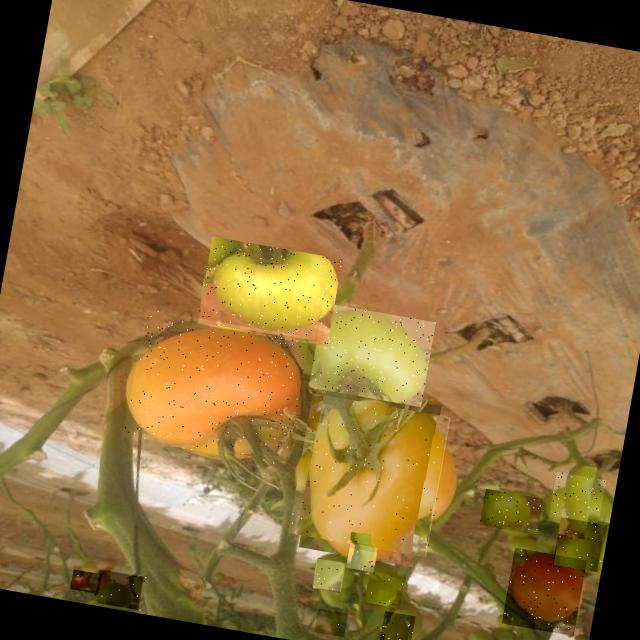Ripe Tomato: (502, 547, 586, 636), (70, 569, 102, 594)
Unripe Tomato: (122, 308, 308, 466), (288, 392, 453, 558), (196, 236, 342, 346), (308, 303, 436, 407), (548, 471, 606, 529), (552, 517, 607, 572), (479, 488, 543, 535), (93, 566, 147, 610), (364, 569, 405, 610), (312, 558, 346, 592), (379, 610, 415, 640), (346, 540, 378, 572), (314, 608, 348, 637)
